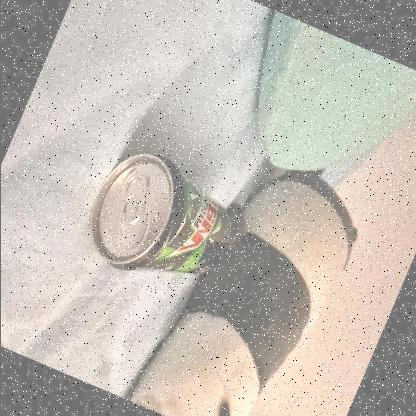Can: (90, 152, 234, 275)
